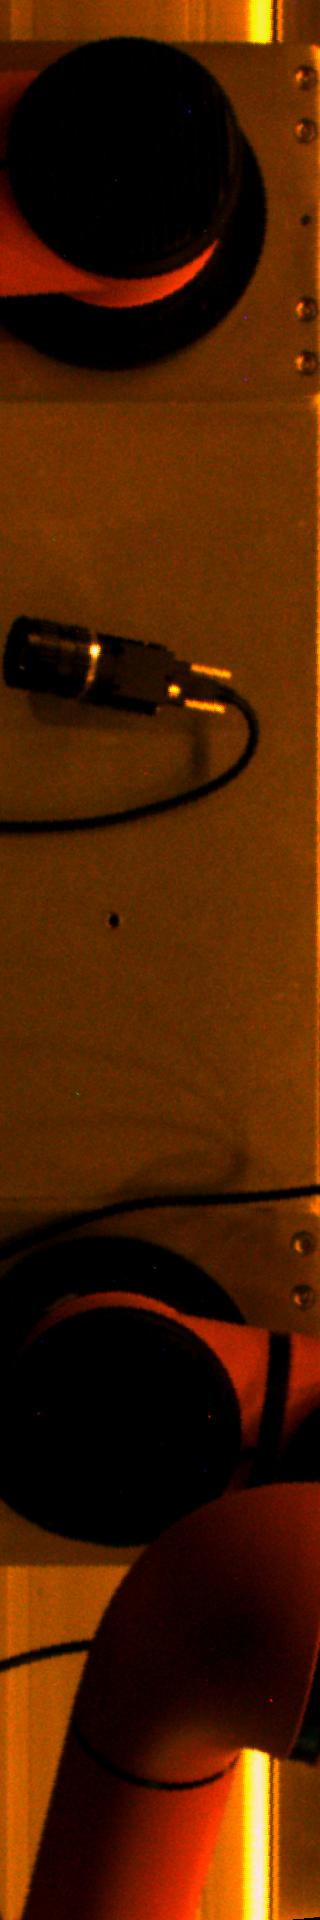keyPoint_2: (98, 906, 128, 936)
